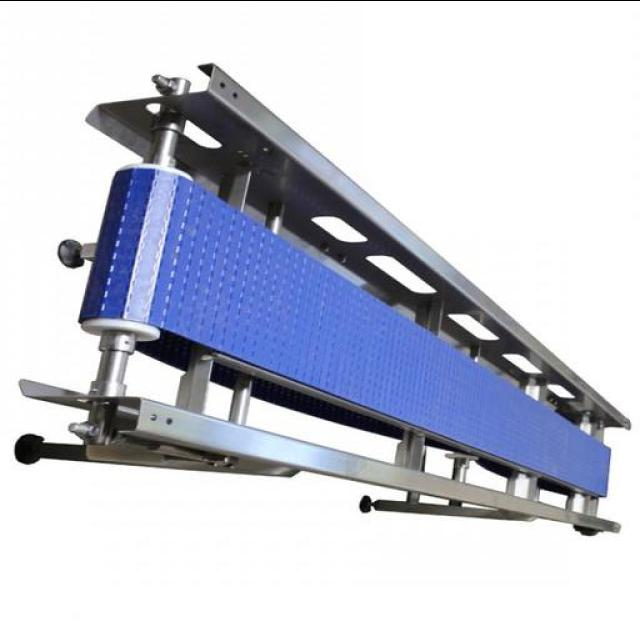conveyor: (80, 168, 615, 498)
